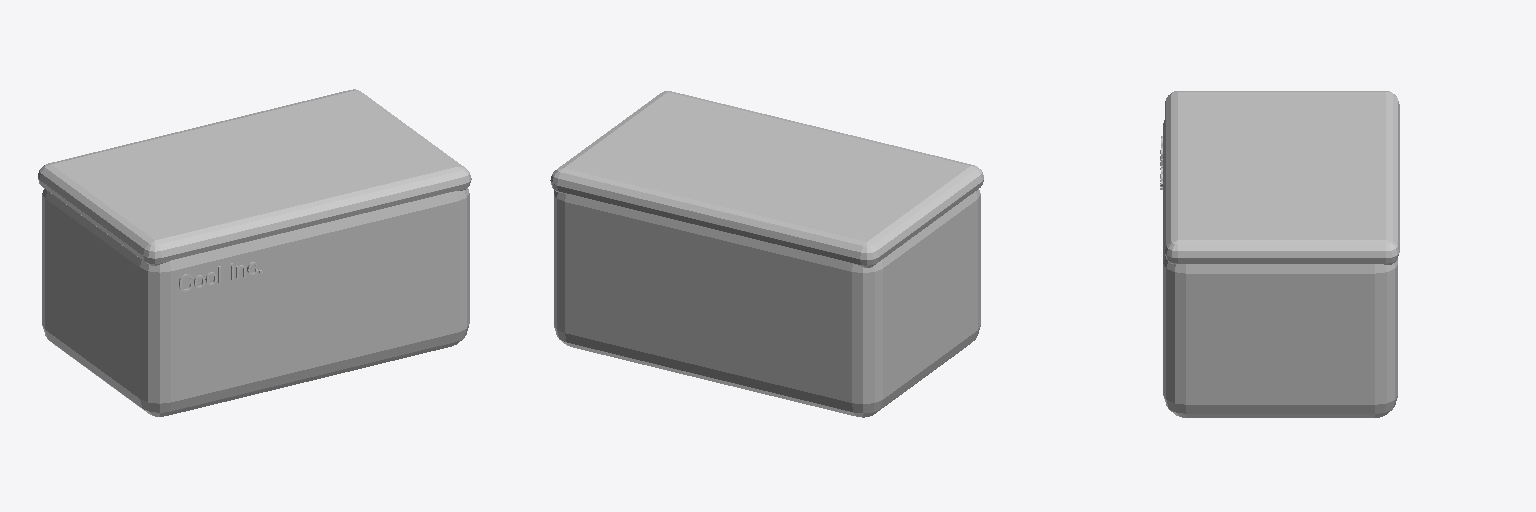
File: Cool Box.obj
The picture shows the model from 3 angles: view 1: azimuth 30°, elevation 25°; view 2: azimuth 150°, elevation 25°; view 3: azimuth 270°, elevation 25°; orthographic projection.
Visible parts, largest first — view 1: ChamferBox01, ChamferBox02, Text01; view 2: ChamferBox01, ChamferBox02; view 3: ChamferBox02, ChamferBox01.
Boxes of the visible parts, x1,y1,x2,y2 form: ChamferBox01: [42, 188, 469, 416]; ChamferBox02: [38, 89, 471, 265]; Text01: [179, 262, 262, 291]; ChamferBox01: [554, 189, 980, 417]; ChamferBox02: [550, 91, 983, 267]; ChamferBox02: [1165, 91, 1399, 264]; ChamferBox01: [1163, 120, 1397, 417].
Size of the model in its own units: 27.46 by 14.39 by 17.38.